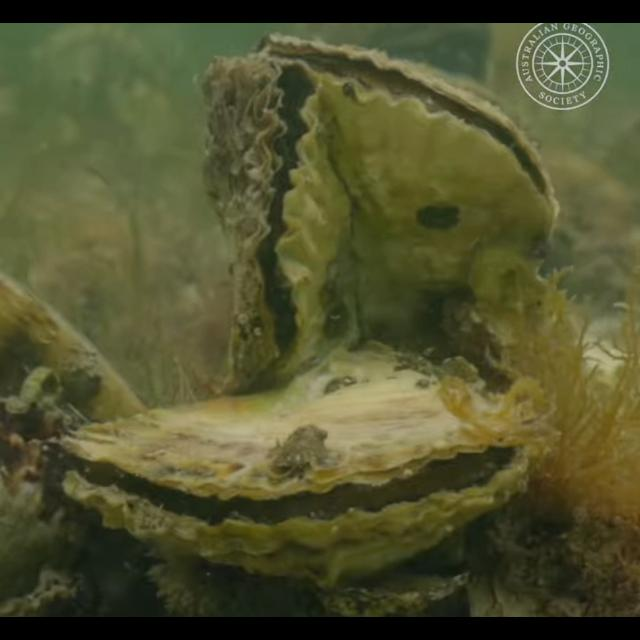Oyster-Closed: (0, 272, 150, 438)
Oyster-Open: (54, 342, 530, 592), (257, 35, 558, 357), (199, 55, 353, 401)
